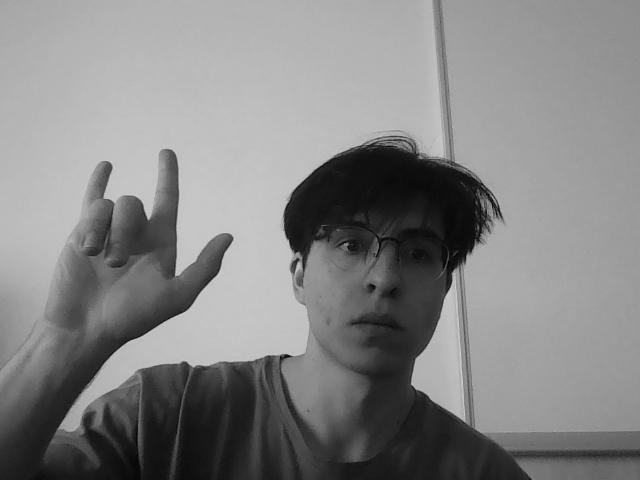I_Love_You: (68, 137, 228, 317)
